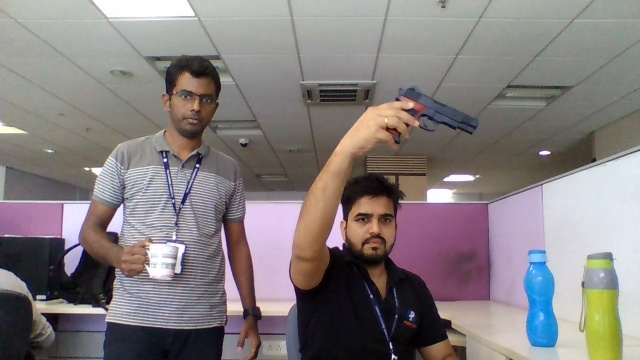gun: (394, 93, 444, 110)
